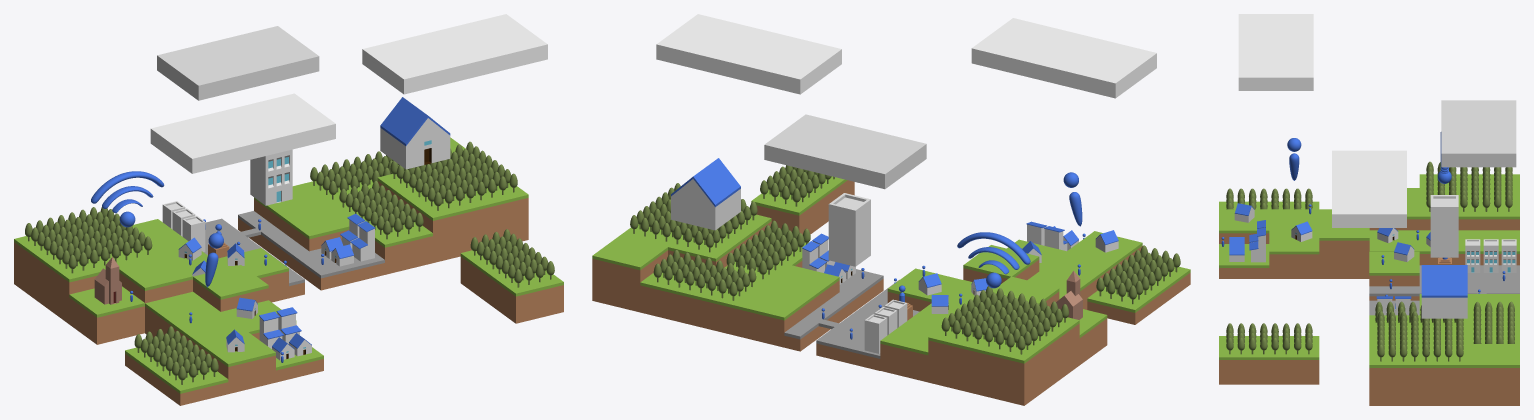
File: main.glb
3 views of the same model, side by side, from view 1: azimuth 30°, elevation 25°; view 2: azimuth 150°, elevation 25°; view 3: azimuth 270°, elevation 25° (orthographic). The views are drawn at different scales.
Visible parts, largest first — view 1: Cube.004, Cube.002, Cube.001, Cube.003, Cube.021, Cube.020, Cube.019, Cylinder.018, Cylinder.002, Cube.018, Cylinder.004, Cylinder.001 (+10 smaller); view 2: Cube.001, Cube.004, Cube.003, Cube.021, Cube.020, Cube.002, Cube.019, Cylinder.018, Cube.018, Cube.017, Cylinder.002, Cylinder.008 (+7 smaller); view 3: Cube.004, Cube.002, Cube.001, Cube.020, Cube.021, Cube.019, Cube.003, Cylinder.002, Cube.018, Cylinder.018, Cube.017, Cylinder.001 (+13 smaller).
Boxes of the visible parts, box(x1,y1,x2,y2) form: Cube.004: box(302, 137, 563, 323); Cube.002: box(125, 265, 323, 405); Cube.001: box(14, 219, 225, 344); Cube.003: box(204, 184, 384, 302); Cube.021: box(362, 14, 547, 94); Cube.020: box(150, 93, 335, 173); Cube.019: box(157, 26, 319, 100); Cylinder.018: box(25, 207, 152, 273); Cylinder.002: box(390, 141, 517, 210); Cube.018: box(380, 97, 450, 169); Cylinder.004: box(134, 326, 218, 384); Cylinder.001: box(470, 229, 554, 287); Cube.001: box(880, 276, 1107, 405); Cube.004: box(592, 176, 854, 335); Cube.003: box(736, 265, 962, 370); Cube.021: box(656, 14, 841, 94); Cube.020: box(971, 18, 1156, 98); Cube.002: box(963, 231, 1190, 324); Cube.019: box(764, 114, 926, 189); Cylinder.018: box(941, 286, 1069, 354); Cube.018: box(671, 158, 740, 230); Cube.017: box(828, 193, 870, 266); Cylinder.002: box(630, 183, 757, 252); Cylinder.008: box(653, 250, 756, 300); Cube.004: box(1219, 315, 1519, 405); Cube.002: box(1219, 201, 1369, 278); Cube.001: box(1369, 174, 1519, 265); Cube.020: box(1238, 14, 1313, 90); Cube.021: box(1332, 150, 1406, 227); Cube.019: box(1441, 100, 1516, 167); Cube.003: box(1369, 251, 1519, 315); Cylinder.002: box(1377, 311, 1463, 361); Cube.018: box(1421, 265, 1467, 318); Cylinder.018: box(1426, 161, 1512, 211); Cube.017: box(1430, 195, 1458, 257); Cylinder.001: box(1226, 323, 1312, 354).
Size of the model in its own units: 3 by 1.55 by 2.
